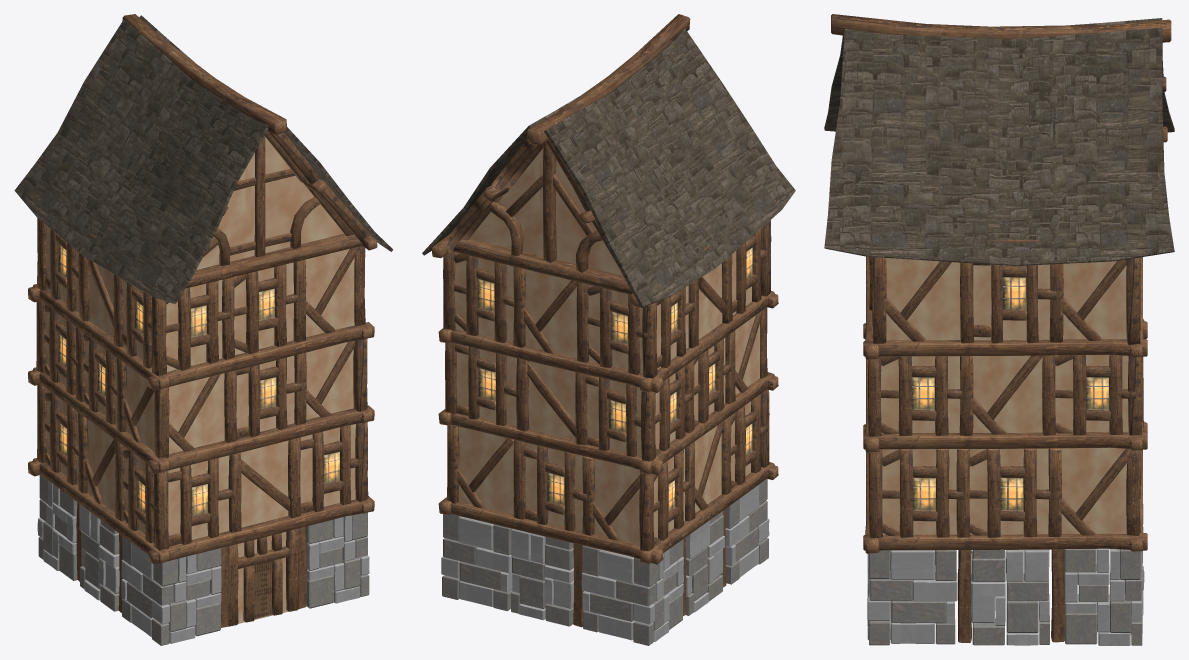
The model's file is House 4.fbx.
The picture shows the model from 3 angles, left to right: view 1: azimuth 30°, elevation 25°; view 2: azimuth 150°, elevation 25°; view 3: azimuth 270°, elevation 25°; orthographic projection. The views are drawn at different scales.
Parts seen in each view (by area): view 1: House 4; view 2: House 4; view 3: House 4.
Part boxes in pixels (x1,y1,x2,y2): House 4: (14, 14, 393, 645); House 4: (422, 14, 795, 645); House 4: (824, 14, 1174, 645).
Bounding box in the file's own units: 6.86 × 14.41 × 7.99.
